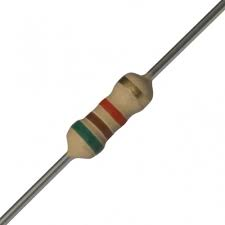resistor: (46, 50, 174, 182)
